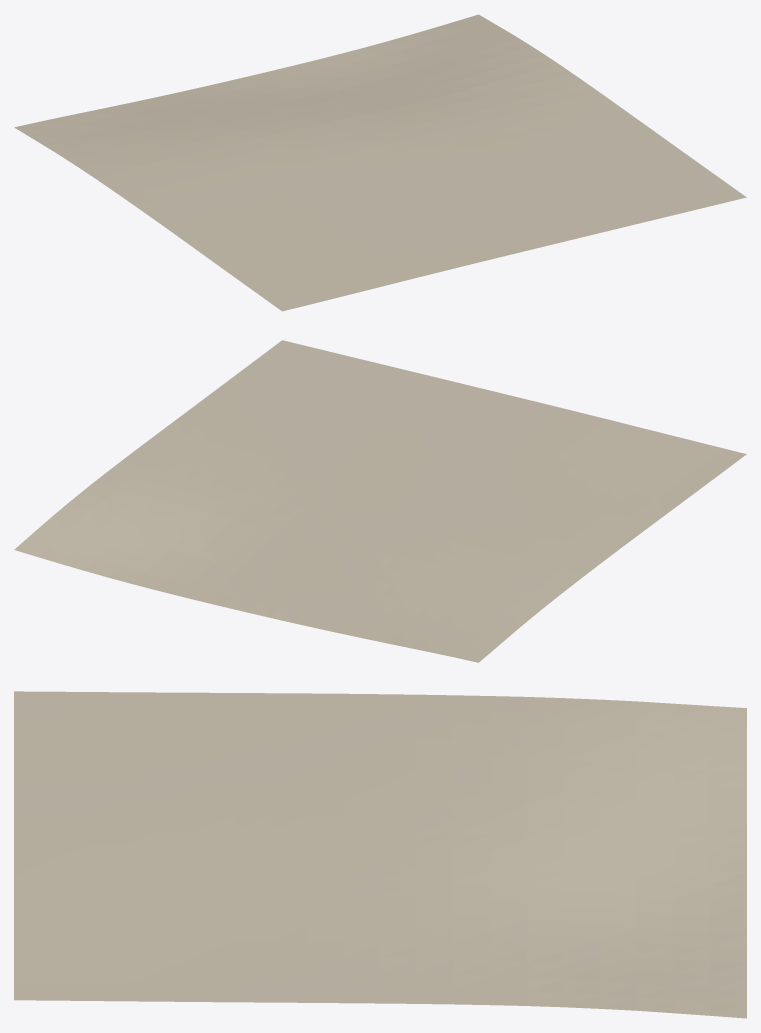
The model's file is bolak_-32_1.glb.
3 views of the same model, one above another, from view 1: azimuth 30°, elevation 25°; view 2: azimuth 150°, elevation 25°; view 3: azimuth 270°, elevation 25° (orthographic). The views are drawn at different scales.
Visible parts, largest first — view 1: Yer_Tuproq-col; view 2: Yer_Tuproq-col; view 3: Yer_Tuproq-col.
Part boxes in pixels (x1,y1,x2,y2): Yer_Tuproq-col: (14, 14, 746, 311); Yer_Tuproq-col: (14, 340, 746, 662); Yer_Tuproq-col: (14, 691, 746, 1018).
Size of the model in its own units: 400 by 16.22 by 400.
